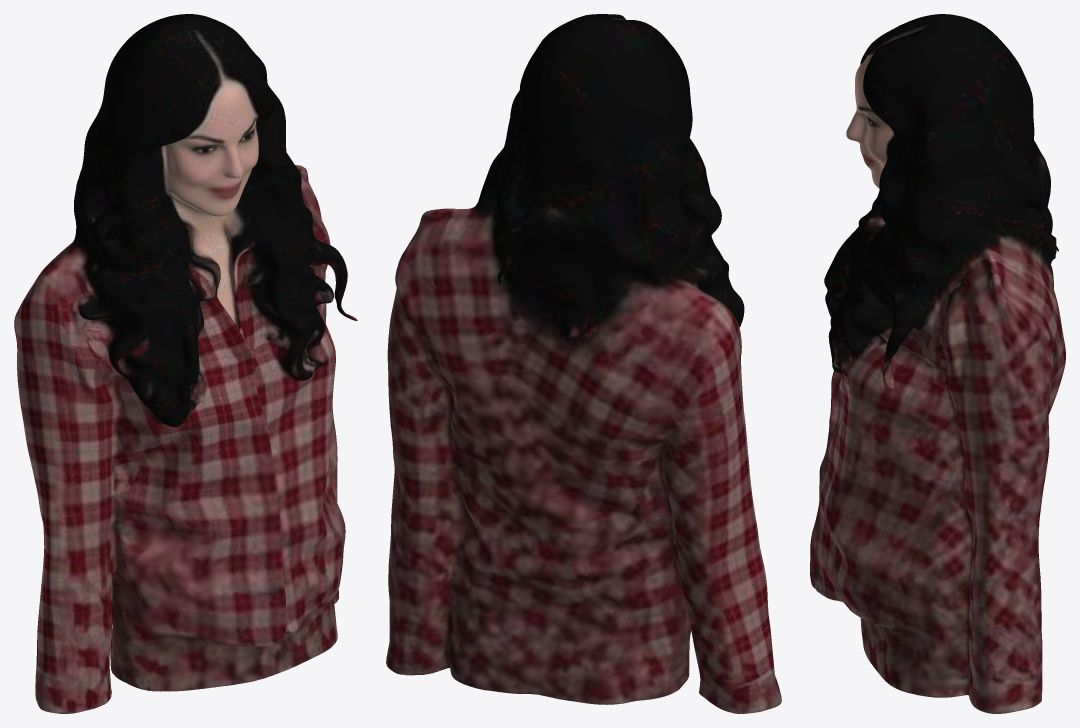
Rendered from lana_parrilla_face_compressed.glb.
3 renders of one model, left to right at view 1: azimuth 30°, elevation 25°; view 2: azimuth 150°, elevation 25°; view 3: azimuth 270°, elevation 25°, orthographic. The views are drawn at different scales.
Size of the model in its own units: 1.05 by 1.9 by 0.7176.
1 material, 1 textured.
